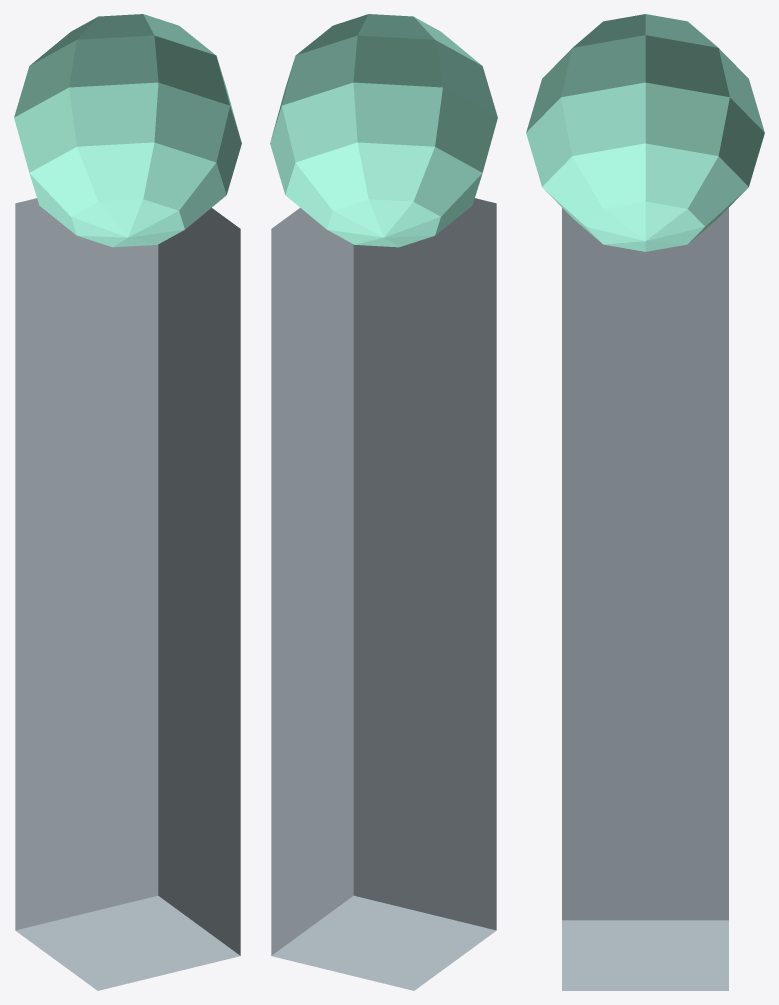
The model's file is relay.glb.
The picture shows the model from 3 angles, left to right: view 1: azimuth 30°, elevation 25°; view 2: azimuth 150°, elevation 25°; view 3: azimuth 270°, elevation 25°; orthographic projection.
Bounding box in the file's own units: 1 × 4.3 × 1.
